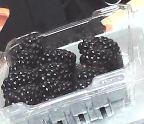berry: (1, 68, 38, 94), (5, 82, 43, 107), (9, 39, 43, 62), (78, 37, 120, 55), (80, 51, 118, 70), (39, 49, 77, 68), (38, 63, 72, 84), (41, 81, 72, 100), (9, 54, 38, 74), (77, 68, 110, 80), (76, 80, 91, 90)
